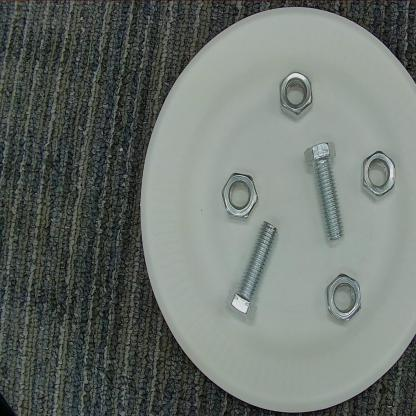FOD: (226, 218, 278, 330), (300, 138, 348, 252), (320, 270, 366, 330), (275, 67, 320, 125), (357, 144, 397, 208), (219, 168, 260, 224)
